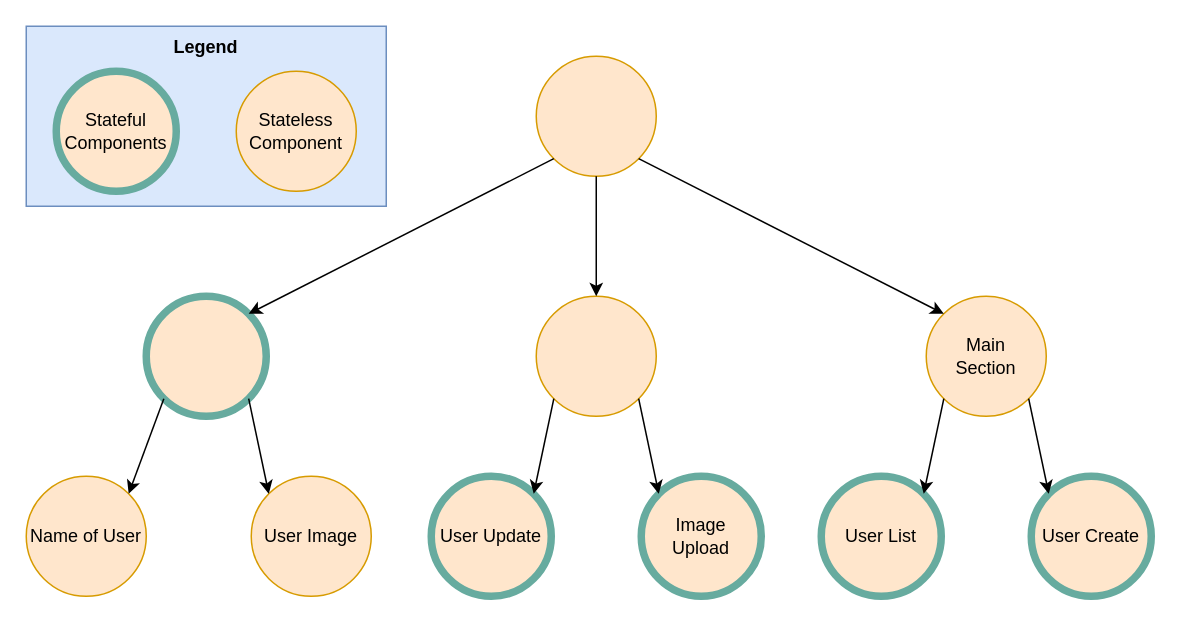
The diagram is 1181 pixels wide and 626 high, and some of its shapes have lost their labels. Each missing label, with the centre of its shape:
Navigation: the point at 205,355
Overlay: the point at 595,355
Page: the point at 595,115
